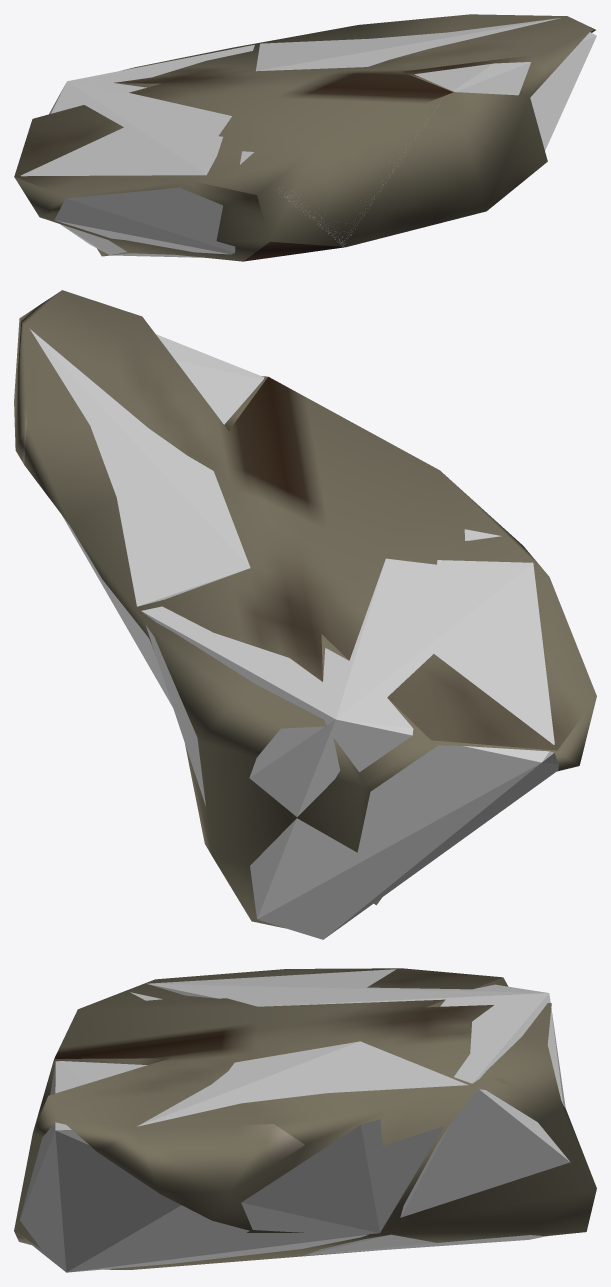
The model's file is SM_RandomBit_04.fbx.
3 views of the same model, one above another, from view 1: azimuth 30°, elevation 25°; view 2: azimuth 150°, elevation 25°; view 3: azimuth 270°, elevation 25° (orthographic). The views are drawn at different scales.
Visible parts, largest first — view 1: SM_RandomBit_04, SM_RandomBit_04_ConvexHulls; view 2: SM_RandomBit_04, SM_RandomBit_04_ConvexHulls; view 3: SM_RandomBit_04, SM_RandomBit_04_ConvexHulls.
Part boxes in pixels (<box>): SM_RandomBit_04: <box>14,14,595,261</box>; SM_RandomBit_04_ConvexHulls: <box>14,18,596,257</box>; SM_RandomBit_04: <box>14,290,596,928</box>; SM_RandomBit_04_ConvexHulls: <box>29,328,558,939</box>; SM_RandomBit_04: <box>14,968,596,1269</box>; SM_RandomBit_04_ConvexHulls: <box>18,969,570,1272</box>.
Bounding box in the file's own units: 3.82 × 2.77 × 1.91.
2 materials, 1 textured.
